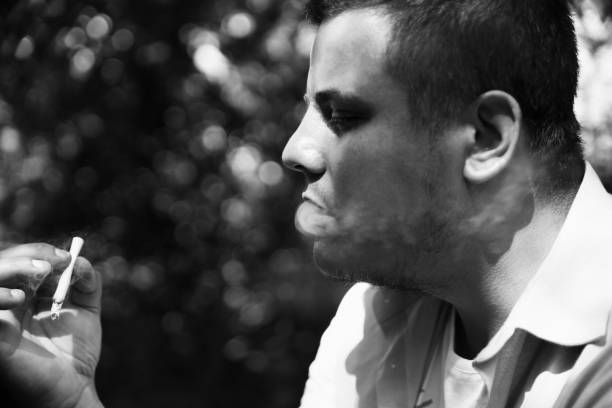cigarette: (50, 236, 85, 320)
